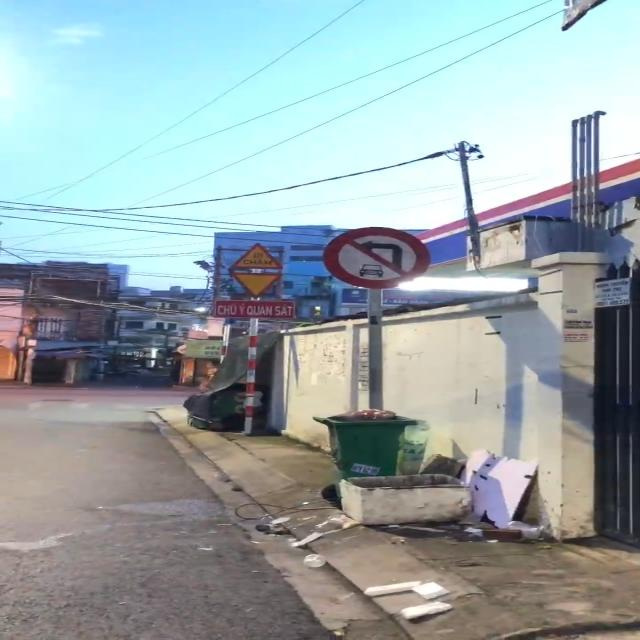Bien bao di cham: (225, 240, 285, 270)
Bien bao giao nhau voi duong uu tien: (227, 270, 292, 302)
